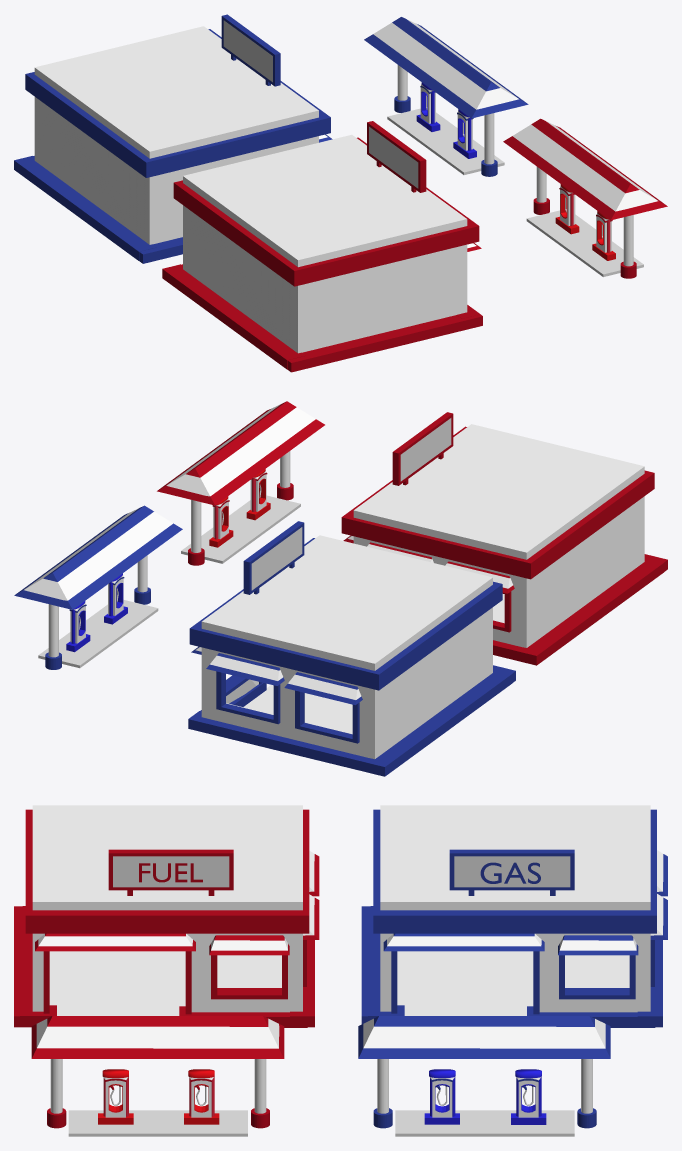
File: gas-big.glb
3 views of the same model, one above another, from view 1: azimuth 30°, elevation 25°; view 2: azimuth 150°, elevation 25°; view 3: azimuth 270°, elevation 25° (orthographic). The views are drawn at different scales.
Visible parts, largest first — view 1: Cube011_54, Cube010_52, Cube013_55, Cube012_53, Cube_40, Cube007_47, Plane001_37, Plane_36, Cube008_48, Cube003_41, Cube005_42, Cube009_49 (+6 smaller); view 2: Cube010_52, Cube011_54, Cube012_53, Cube013_55, Cube_40, Cube007_47, Plane_36, Plane001_37, Cube008_48, Cube003_41, Cube005_42, Cube009_49 (+9 smaller); view 3: Cube010_52, Cube011_54, Cube012_53, Cube013_55, Cube_40, Cube007_47, Plane_36, Plane001_37, Cube023_68, Cube014_56, Cube003_41, Cube008_48 (+16 smaller).
Boxes of the visible parts, x1,y1,x2,y2 form: Cube011_54: [183, 134, 467, 353]; Cube010_52: [34, 26, 318, 244]; Cube013_55: [162, 137, 482, 372]; Cube012_53: [14, 29, 330, 263]; Cube_40: [512, 121, 657, 211]; Cube007_47: [373, 19, 518, 109]; Plane001_37: [387, 108, 504, 174]; Plane_36: [526, 210, 643, 276]; Cube008_48: [364, 24, 528, 118]; Cube003_41: [503, 126, 667, 220]; Cube005_42: [531, 118, 639, 193]; Cube009_49: [392, 17, 499, 91]; Cube010_52: [201, 535, 492, 759]; Cube011_54: [353, 424, 644, 647]; Cube012_53: [188, 538, 515, 776]; Cube013_55: [341, 426, 667, 665]; Cube_40: [166, 404, 315, 496]; Cube007_47: [24, 508, 172, 600]; Plane_36: [181, 495, 300, 563]; Plane001_37: [38, 600, 158, 668]; Cube008_48: [14, 513, 182, 609]; Cube003_41: [157, 409, 324, 505]; Cube005_42: [186, 401, 296, 477]; Cube009_49: [43, 505, 153, 581]; Cube010_52: [380, 805, 650, 1015]; Cube011_54: [32, 805, 302, 1015]; Cube012_53: [361, 809, 662, 1027]; Cube013_55: [14, 809, 314, 1027]; Cube_40: [36, 1018, 279, 1048]; Cube007_47: [363, 1018, 605, 1048]; Plane_36: [68, 1110, 247, 1136]; Plane001_37: [395, 1110, 574, 1136]; Cube023_68: [113, 856, 229, 887]; Cube014_56: [454, 856, 570, 887]; Cube003_41: [31, 1024, 284, 1058]; Cube008_48: [358, 1024, 610, 1058].
Bounding box in the file's own units: 0.7965 × 0.2846 × 1.
